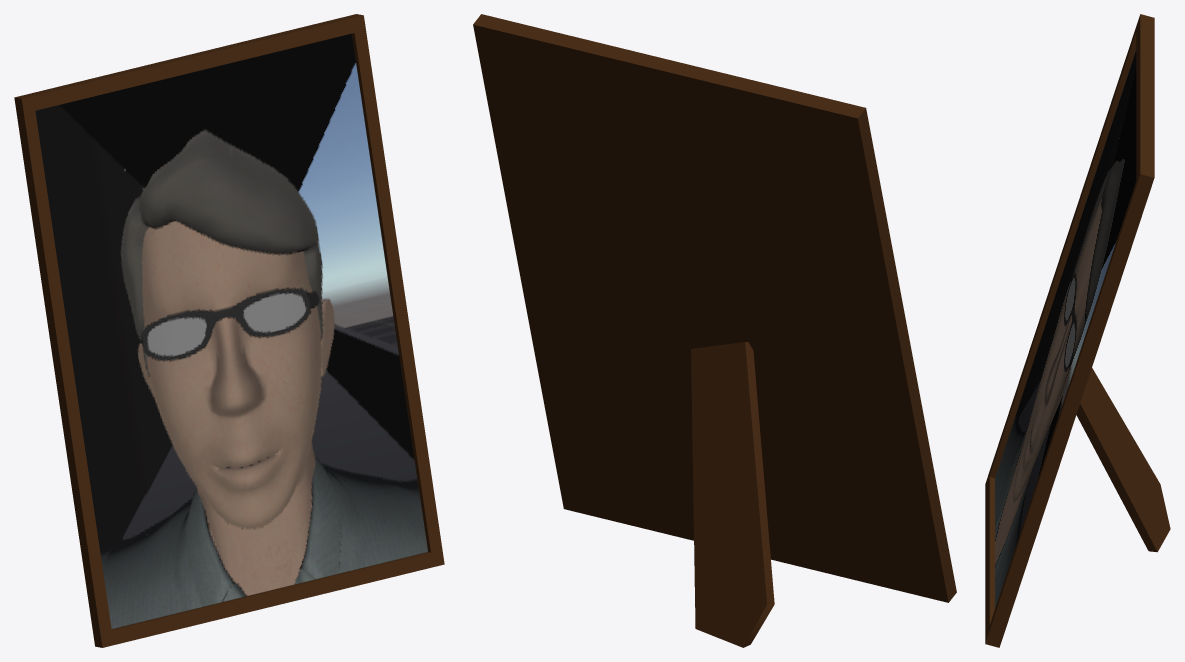
Rendered from crop.fbx.
The picture shows the model from 3 angles, left to right: view 1: azimuth 30°, elevation 25°; view 2: azimuth 150°, elevation 25°; view 3: azimuth 270°, elevation 25°; orthographic projection. The views are drawn at different scales.
Visible parts, largest first — view 1: Crop; view 2: Crop; view 3: Crop.
Boxes of the visible parts, x1,y1,x2,y2 form: Crop: (14,14,444,647); Crop: (473,14,956,647); Crop: (985,14,1170,647).
Bounding box in the file's own units: 2.4 × 3.31 × 1.17.
2 materials, 1 textured.
